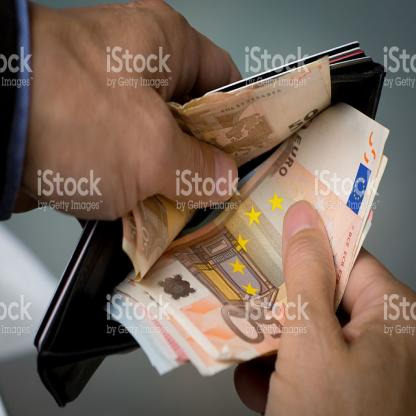billete: (101, 101, 391, 378), (118, 52, 333, 288)
